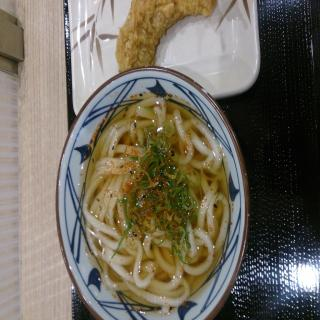Pasta: (76, 79, 247, 315)
